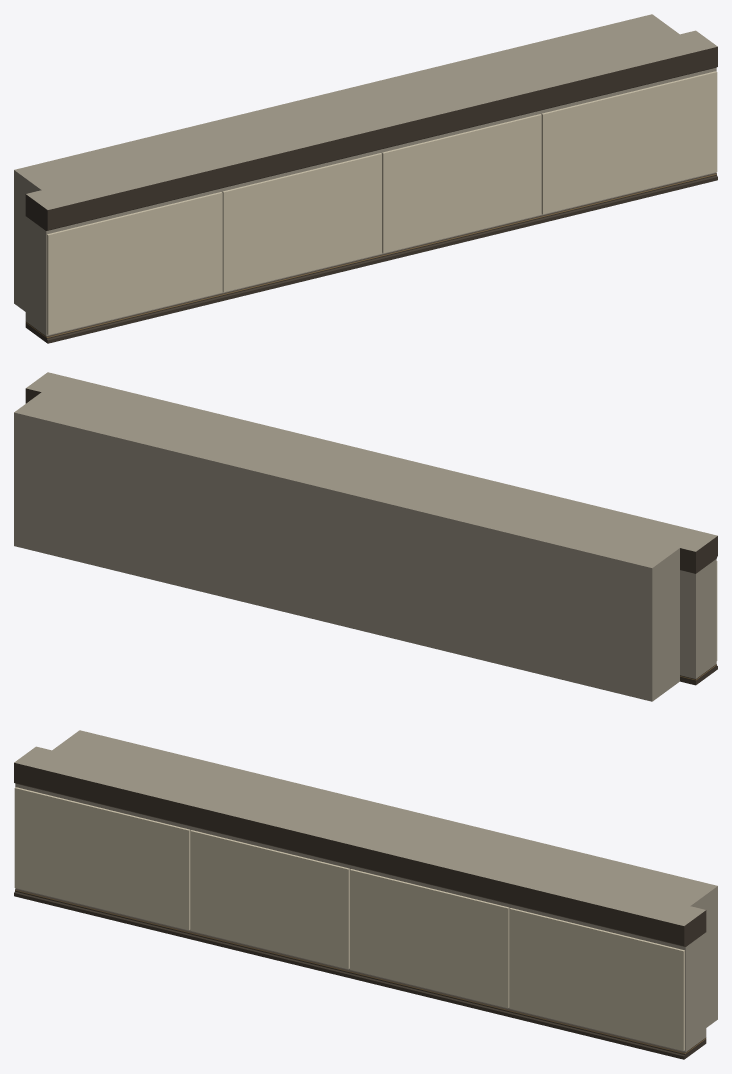
The model's file is mall-shop-door-header-2m-lod1.glb.
3 views of the same model, one above another, from view 1: azimuth 30°, elevation 25°; view 2: azimuth 150°, elevation 25°; view 3: azimuth 330°, elevation 25° (orthographic).
Visible parts, largest first — view 1: Four fascia faces LOD1, Stepped lintel and bronze returns LOD1; view 2: Stepped lintel and bronze returns LOD1; view 3: Four fascia faces LOD1, Stepped lintel and bronze returns LOD1.
Boxes of the visible parts, left/top/right/bottom form: Four fascia faces LOD1: left=47, top=71, right=717, bottom=334; Stepped lintel and bronze returns LOD1: left=14, top=14, right=717, bottom=343; Stepped lintel and bronze returns LOD1: left=14, top=372, right=717, bottom=701; Four fascia faces LOD1: left=14, top=787, right=684, bottom=1050; Stepped lintel and bronze returns LOD1: left=14, top=730, right=717, bottom=1059.
Bounding box in the file's own units: 2.1 × 0.4 × 0.27.
